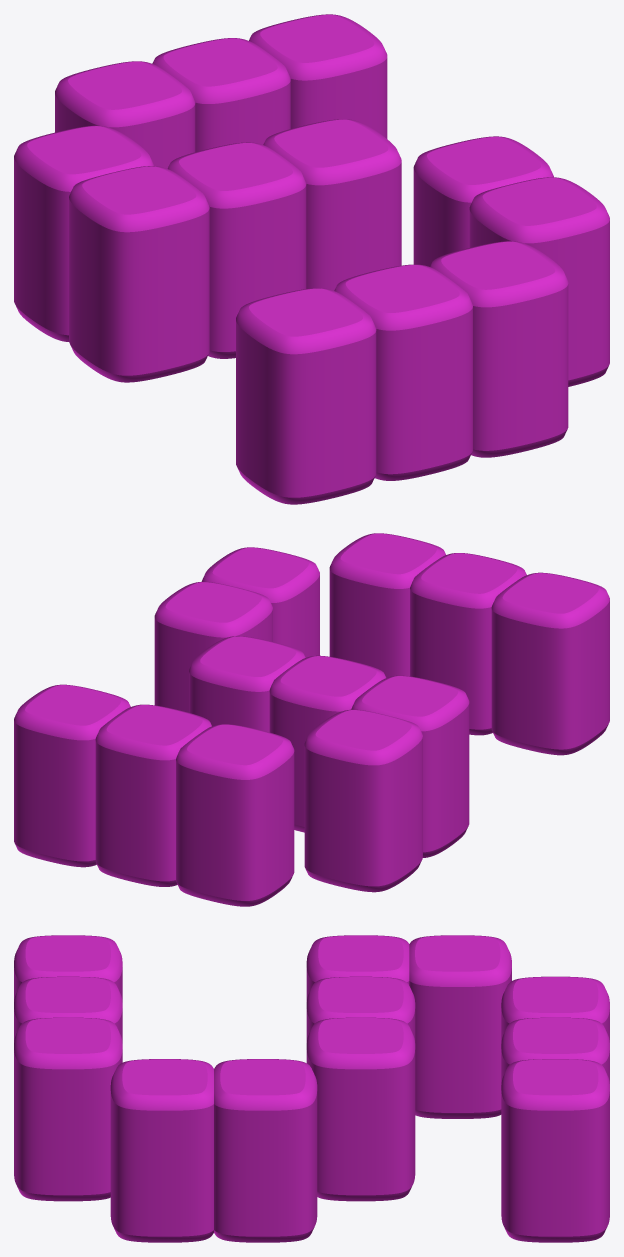
File: Letter_S.fbx
3 views of the same model, one above another, from view 1: azimuth 30°, elevation 25°; view 2: azimuth 150°, elevation 25°; view 3: azimuth 270°, elevation 25° (orthographic). The views are drawn at different scales.
Parts seen in each view (by area): view 1: Letter_S; view 2: Letter_S; view 3: Letter_S.
Boxes of the visible parts, left/top/right/bottom form: Letter_S: left=14, top=14, right=609, bottom=504; Letter_S: left=14, top=533, right=609, bottom=906; Letter_S: left=14, top=935, right=609, bottom=1242.
Bounding box in the file's own units: 0.3465 × 0.14 × 0.5146.
